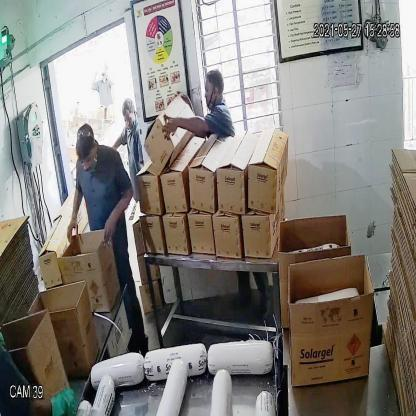no_goggles: (75, 152, 97, 172)
